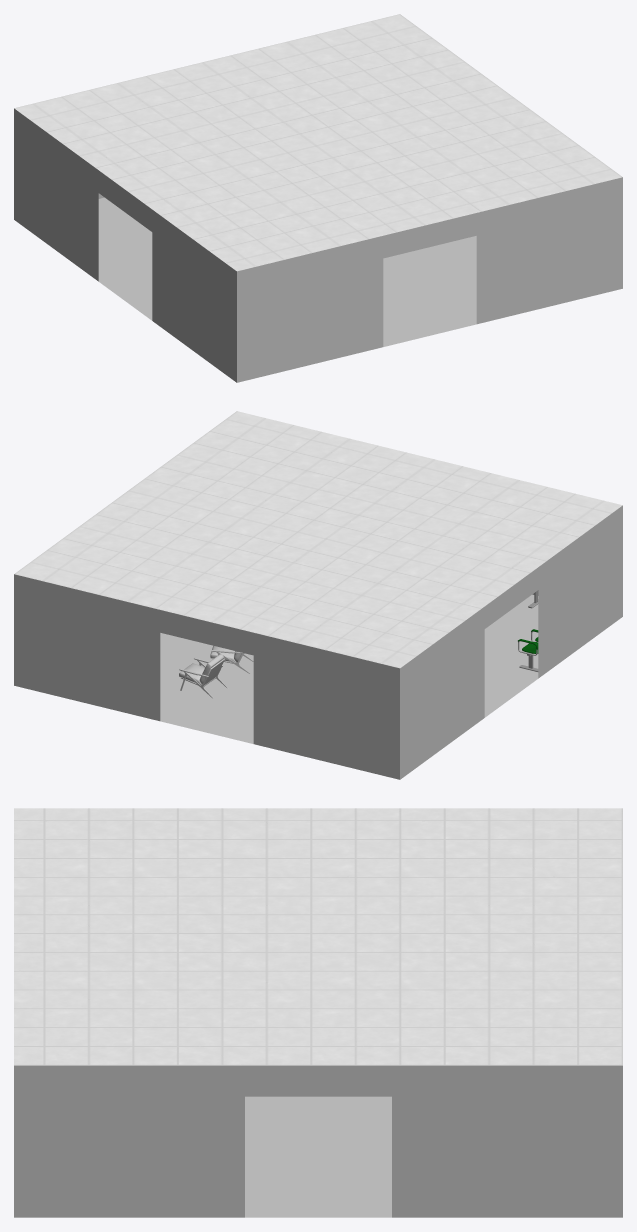
File: Hub.003.fbx
3 views of the same model, one above another, from view 1: azimuth 30°, elevation 25°; view 2: azimuth 150°, elevation 25°; view 3: azimuth 270°, elevation 25° (orthographic). The views are drawn at different scales.
Parts seen in each view (by area): view 1: room.001; view 2: room.001, armchair_.001; view 3: room.001.
Part boxes in pixels (bbox=[...]): room.001: bbox=[14, 14, 622, 382]; room.001: bbox=[14, 411, 622, 779]; armchair_.001: bbox=[179, 654, 227, 698]; room.001: bbox=[14, 808, 622, 1217].
Bounding box in the file's own units: 1000 × 276 × 1000.
